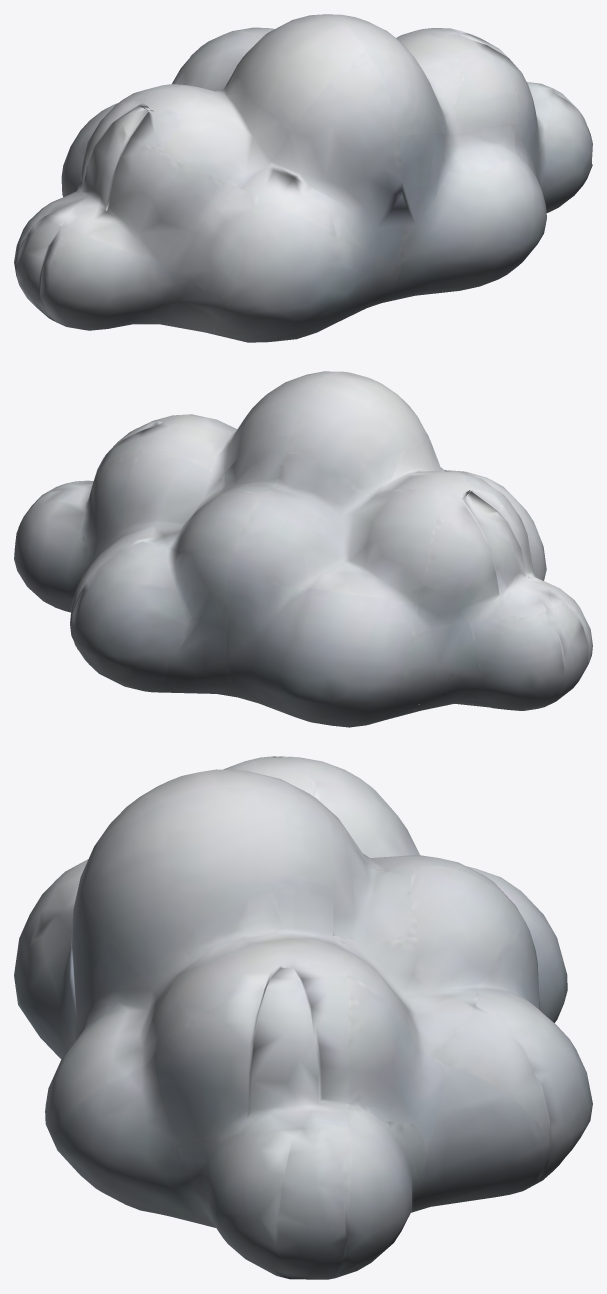
The model's file is cloud.glb.
3 views of the same model, one above another, from view 1: azimuth 30°, elevation 25°; view 2: azimuth 150°, elevation 25°; view 3: azimuth 270°, elevation 25° (orthographic). The views are drawn at different scales.
Visible parts, largest first — view 1: tripo_node_f2870683-5364-4870-8d08-ca17bbf0d9c7; view 2: tripo_node_f2870683-5364-4870-8d08-ca17bbf0d9c7; view 3: tripo_node_f2870683-5364-4870-8d08-ca17bbf0d9c7.
Part boxes in pixels (left/top/right/bottom): tripo_node_f2870683-5364-4870-8d08-ca17bbf0d9c7: left=14, top=14, right=592, bottom=342; tripo_node_f2870683-5364-4870-8d08-ca17bbf0d9c7: left=14, top=371, right=592, bottom=727; tripo_node_f2870683-5364-4870-8d08-ca17bbf0d9c7: left=14, top=756, right=592, bottom=1279.
Bounding box in the file's own units: 0.9785 × 0.4322 × 0.6582.
Materials: 1 (1 with a texture image).
